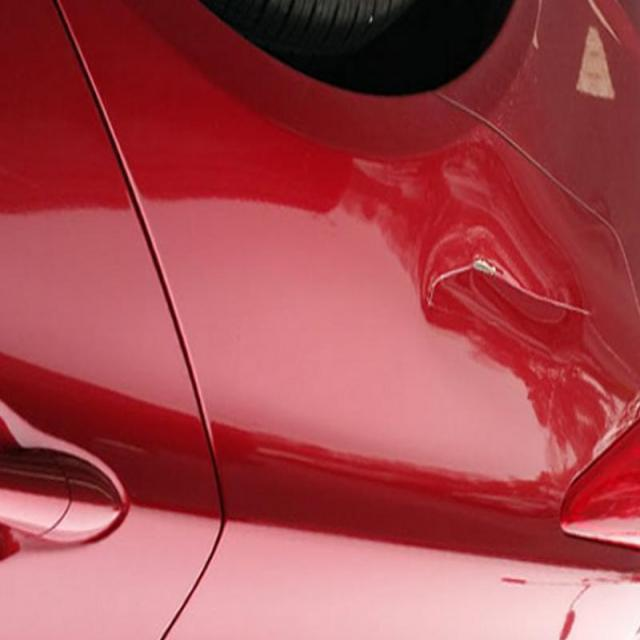dent: (420, 244, 603, 330)
